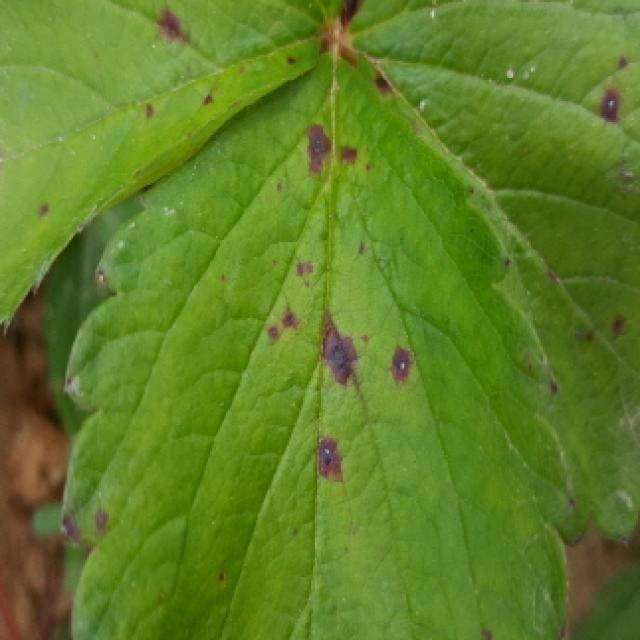Leaf Spot: (57, 45, 578, 640), (340, 0, 640, 551)
